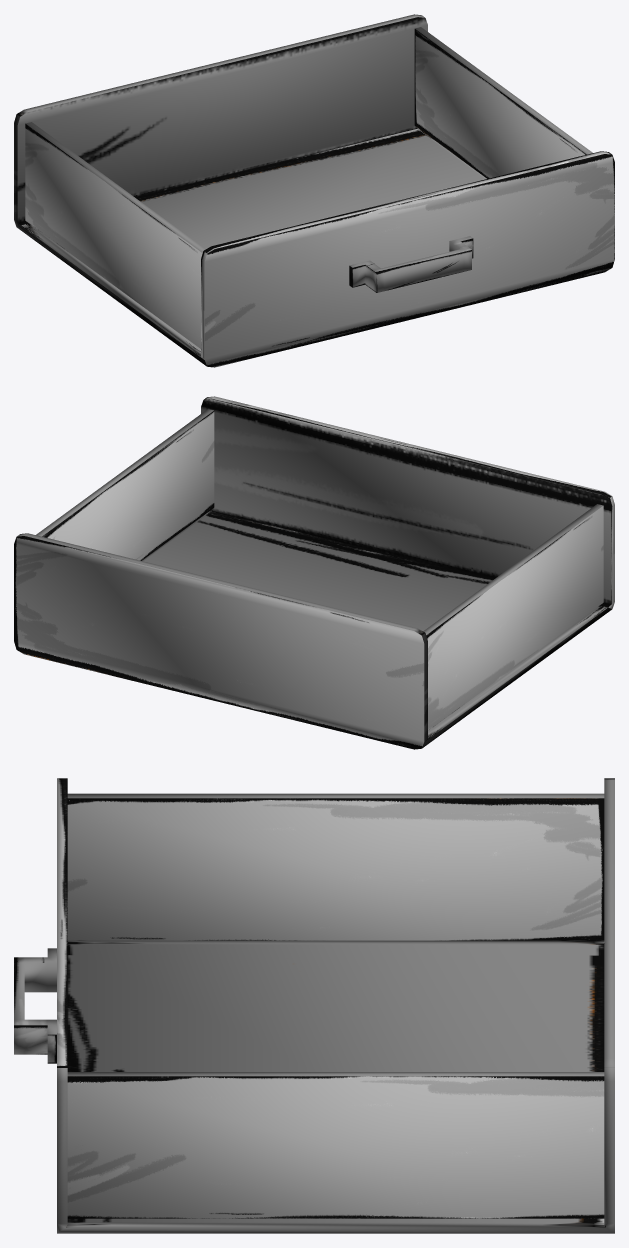
Rendered from SM_Drawer02.fbx.
3 views of the same model, one above another, from view 1: azimuth 30°, elevation 25°; view 2: azimuth 150°, elevation 25°; view 3: azimuth 270°, elevation 25° (orthographic). The views are drawn at different scales.
Parts seen in each view (by area): view 1: Drawer; view 2: Drawer; view 3: Drawer.
Boxes of the visible parts, bbox=[...] form: Drawer: bbox=[14, 14, 614, 367]; Drawer: bbox=[14, 396, 614, 749]; Drawer: bbox=[14, 778, 614, 1233].
Size of the model in its own units: 64.55 by 17.81 by 55.91.
